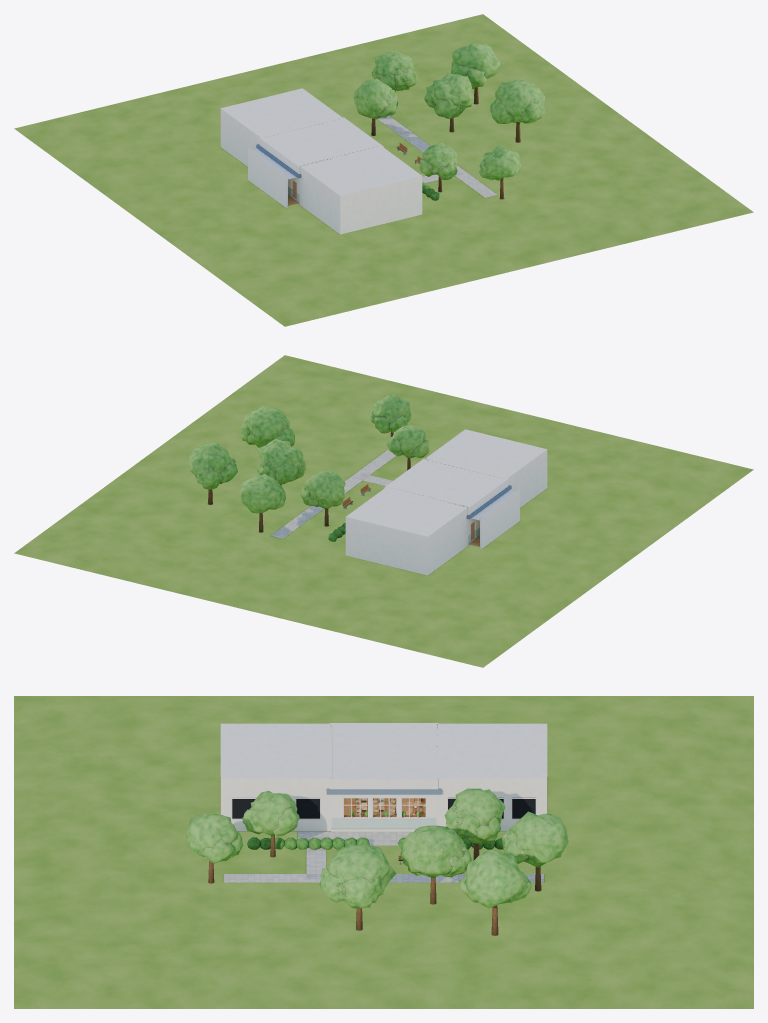
File: classroom_v1_n.glb
3 renders of one model, top to bottom at view 1: azimuth 30°, elevation 25°; view 2: azimuth 150°, elevation 25°; view 3: azimuth 270°, elevation 25°, orthographic. The views are drawn at different scales.
Parts seen in each view (by area): view 1: BK_ground, BK_ext, BK_trees; view 2: BK_ground, BK_ext, BK_trees; view 3: BK_ground, BK_ext, BK_trees, BK_shell, BK_floor.
Part boxes in pixels (left/top/right/bottom): BK_ground: left=14, top=14, right=753, bottom=326; BK_ext: left=220, top=88, right=422, bottom=234; BK_trees: left=353, top=43, right=545, bottom=200; BK_ground: left=14, top=355, right=753, bottom=667; BK_ext: left=345, top=429, right=547, bottom=575; BK_trees: left=189, top=394, right=429, bottom=541; BK_ground: left=14, top=696, right=753, bottom=1008; BK_ext: left=220, top=723, right=547, bottom=831; BK_trees: left=186, top=788, right=568, bottom=935; BK_shell: left=331, top=794, right=436, bottom=828; BK_floor: left=344, top=798, right=425, bottom=815.
Size of the model in its own units: 60 by 7.94 by 60.
9 materials, 9 textured.
